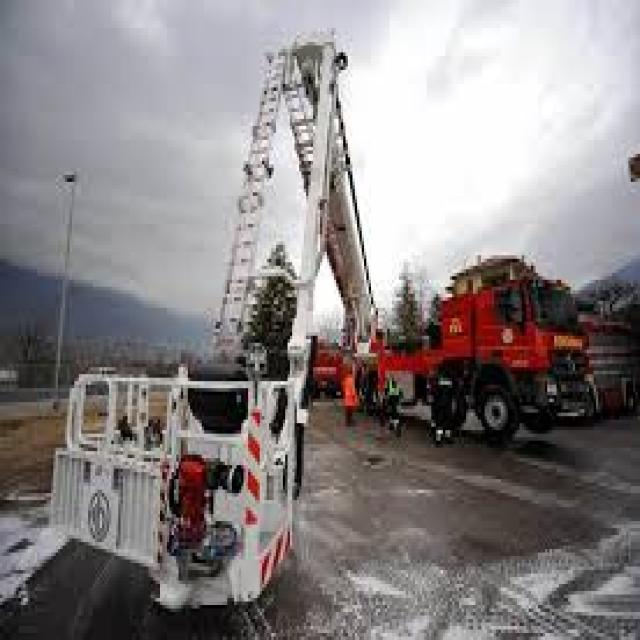pompier: (374, 252, 593, 440)
